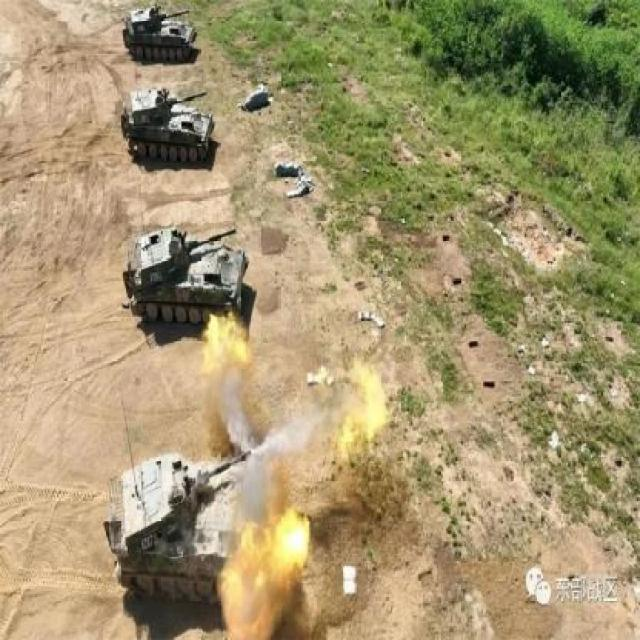Tanks: (103, 452, 249, 606), (124, 222, 250, 333), (120, 88, 215, 168), (121, 4, 197, 64)
